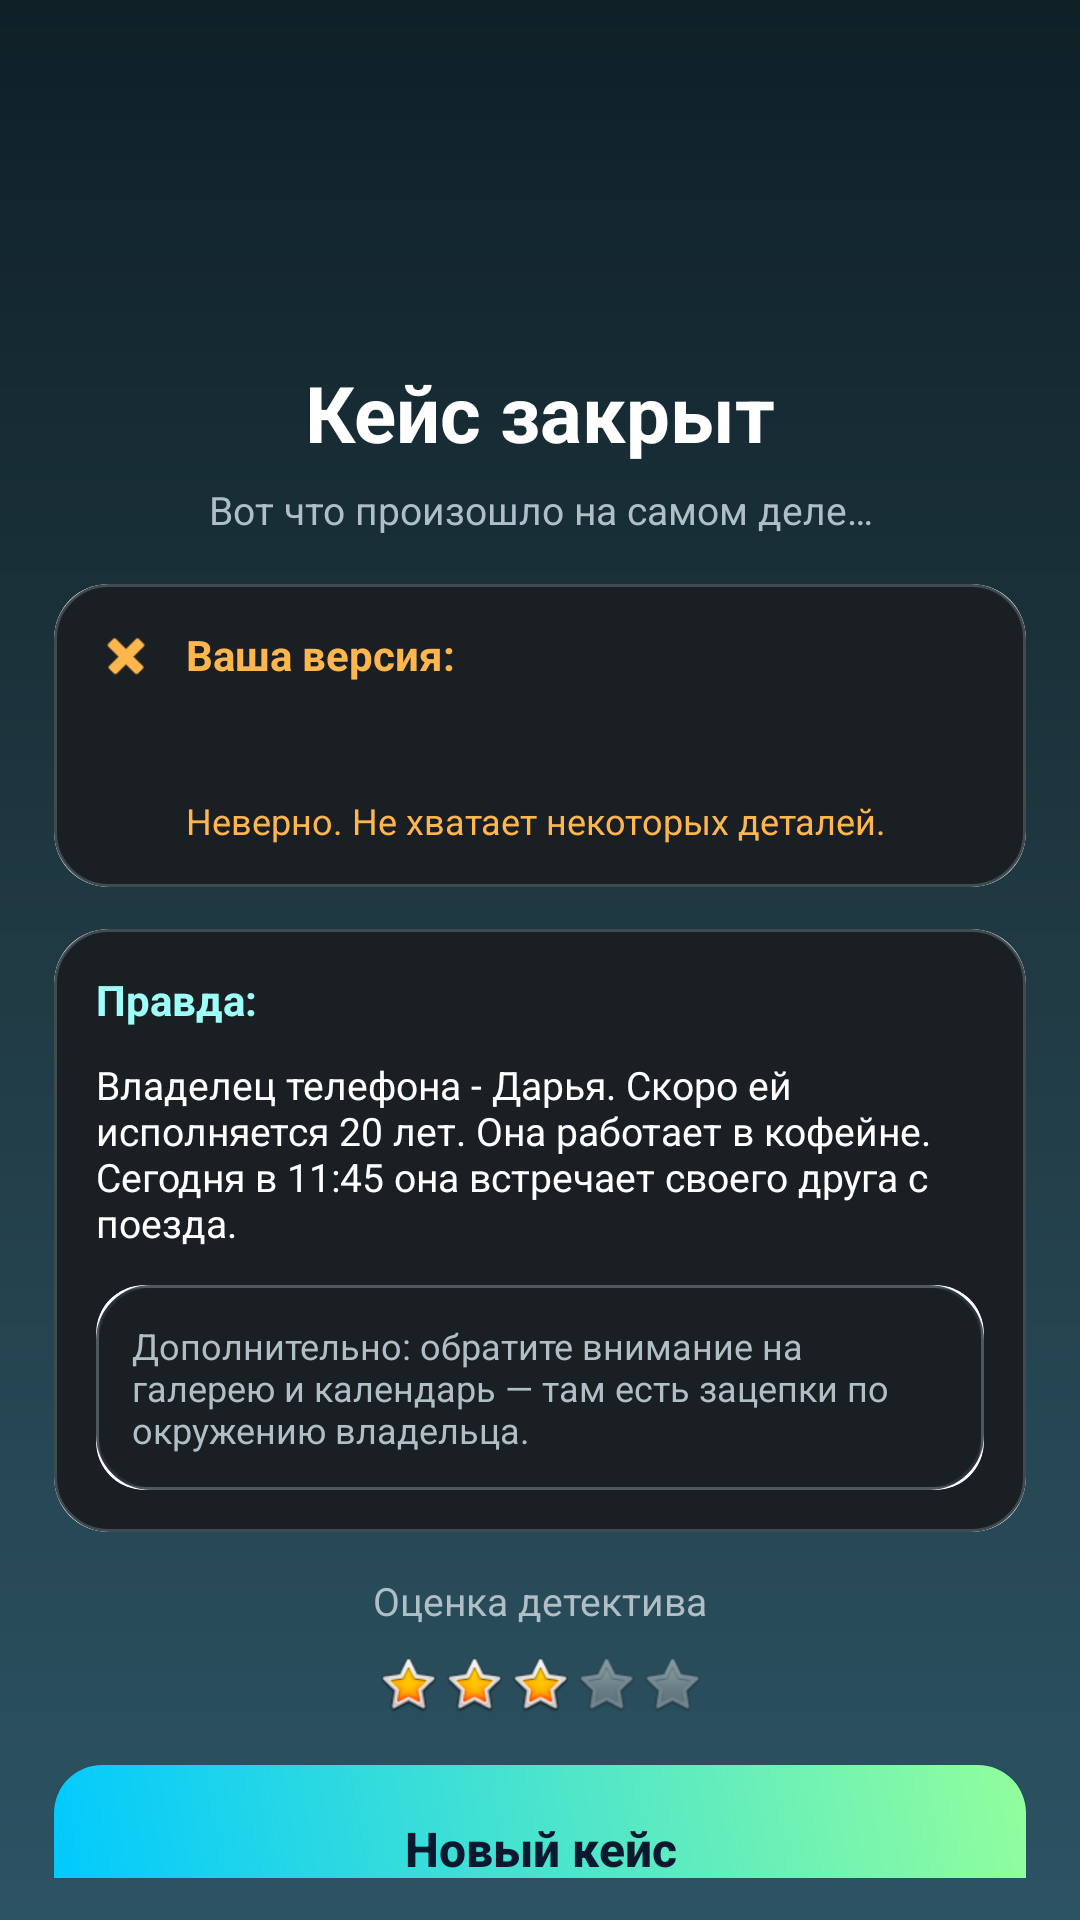

Icon click points for this 1080 x 1920 phone screenshot, format [x,y]:
delete: [126,656]
star off: [606,1683], [672,1683]
star on: [409,1684], [475,1684], [541,1684]
